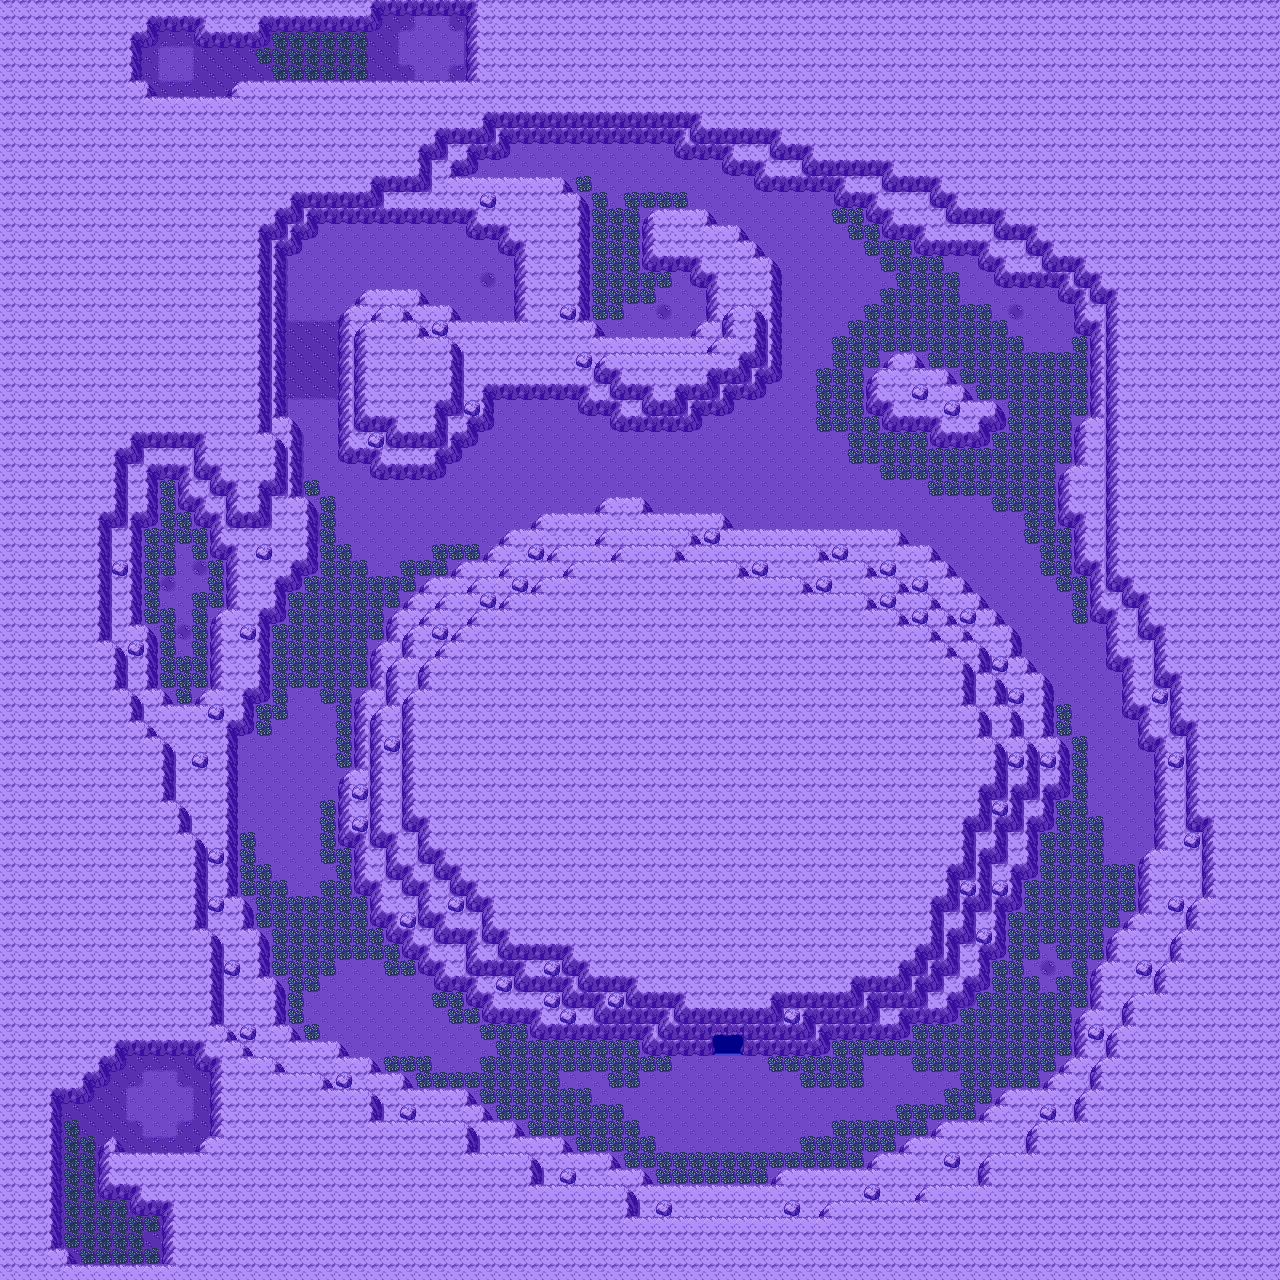cave: (674, 1003, 779, 1061)
